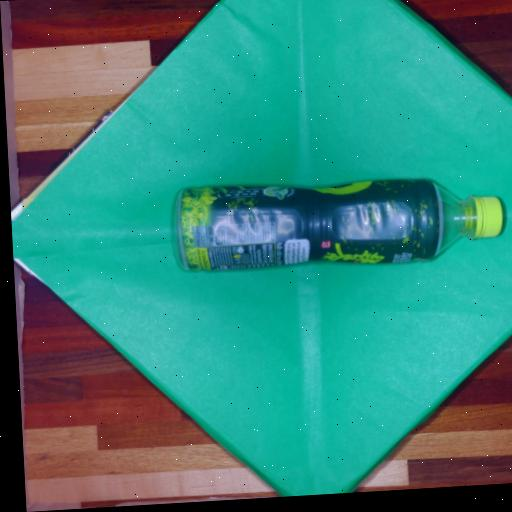bottle: (177, 180, 503, 270)
